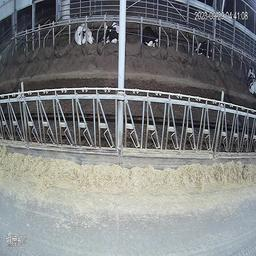cow: (140, 24, 160, 49), (195, 37, 214, 61), (76, 23, 94, 47), (103, 20, 119, 45), (245, 66, 256, 98)
